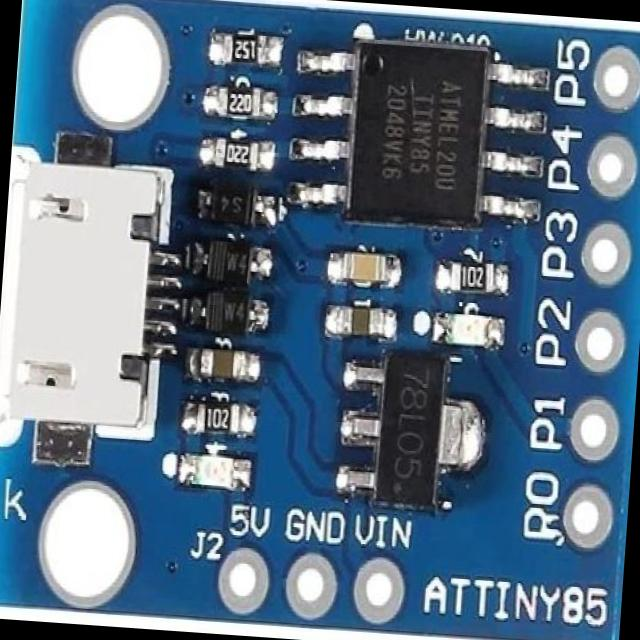IC: (308, 35, 527, 231), (344, 354, 468, 516)
LED: (178, 449, 243, 496), (437, 308, 499, 348)
capacitor: (335, 246, 392, 282), (338, 308, 382, 341), (206, 350, 246, 380)
connector: (0, 144, 171, 450)
diode: (202, 288, 260, 334), (210, 182, 258, 234), (204, 240, 255, 288)
resistor: (195, 392, 242, 432), (216, 88, 264, 121), (217, 36, 267, 64), (218, 140, 264, 170), (451, 264, 499, 292)
